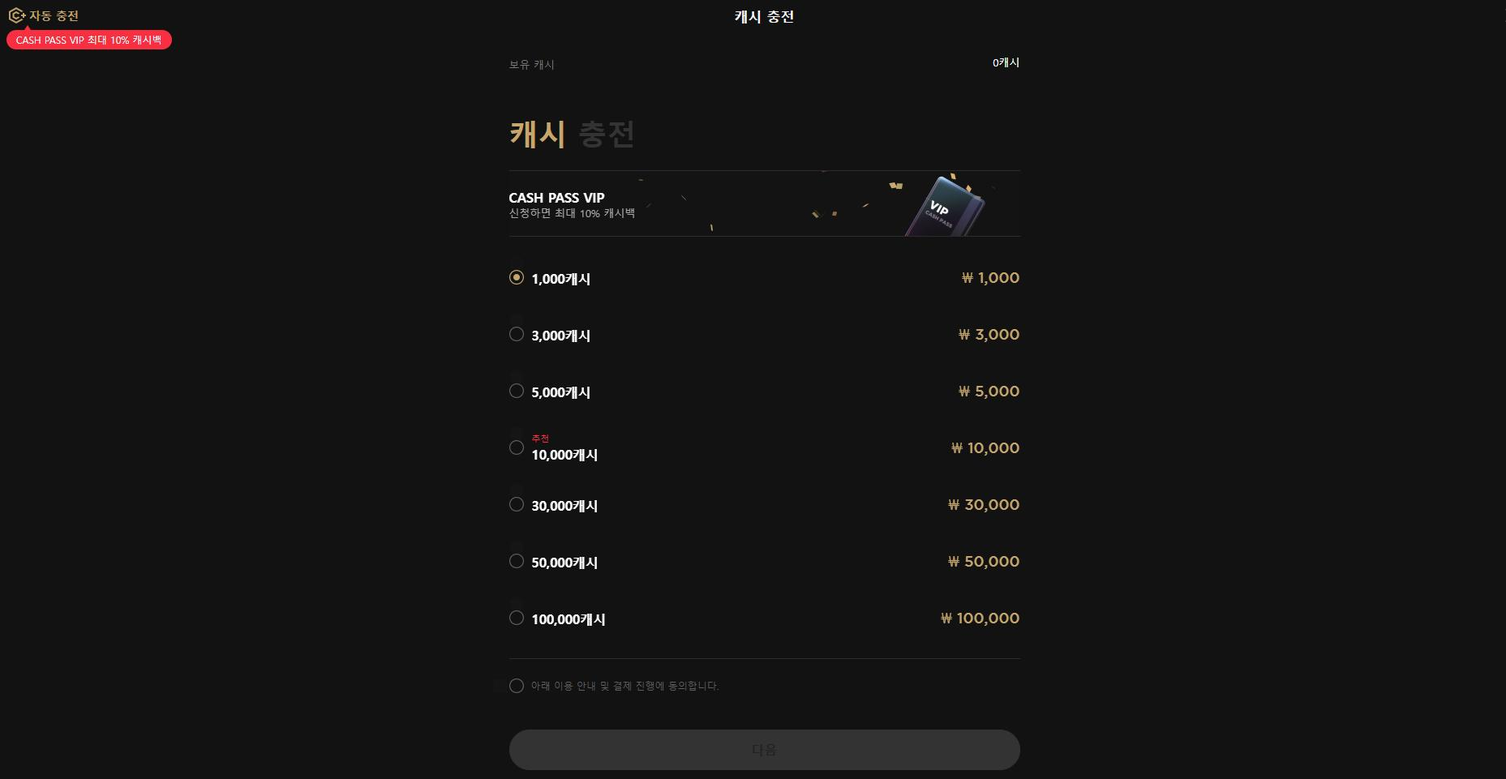button: (505, 718, 1022, 777)
checkbox: (493, 530, 1026, 580), (492, 589, 1026, 637), (496, 423, 1023, 470), (497, 476, 1026, 522), (505, 314, 1032, 360), (503, 256, 1032, 298), (497, 374, 1022, 414), (501, 660, 723, 703)
popup: (500, 166, 1023, 241), (0, 24, 190, 53)
